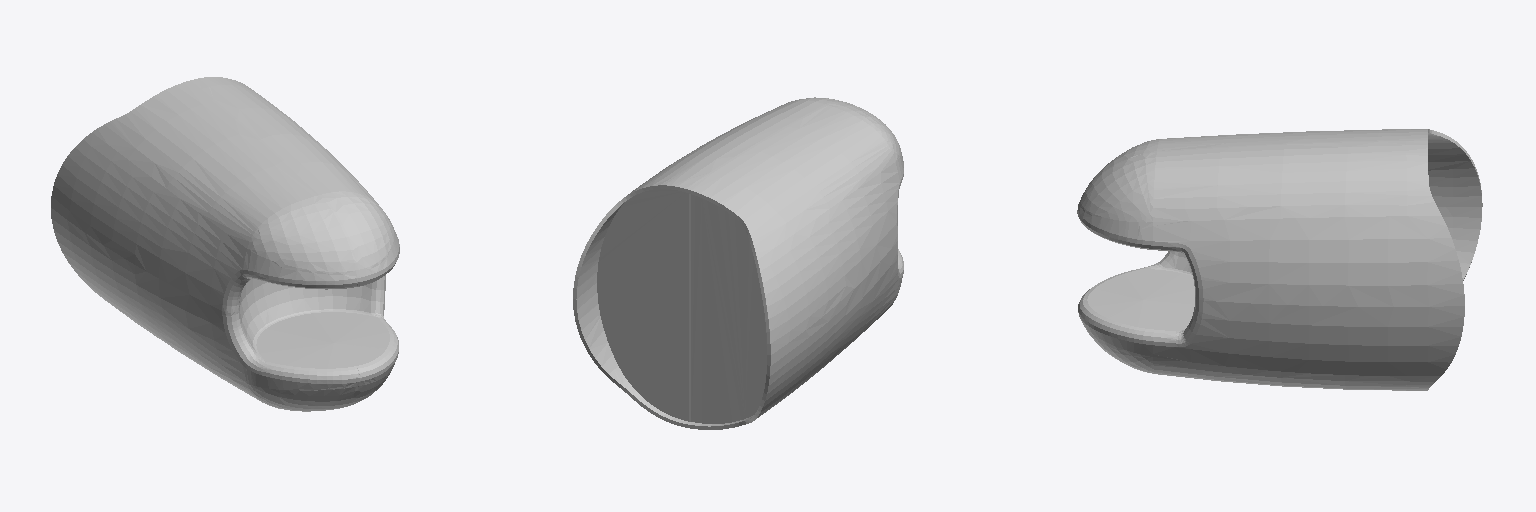
File: arm_5_wrist_2017.obj
The picture shows the model from 3 angles: view 1: azimuth 30°, elevation 25°; view 2: azimuth 150°, elevation 25°; view 3: azimuth 270°, elevation 25°; orthographic projection.
Parts seen in each view (by area): view 1: arm_5_wrist_2017; view 2: arm_5_wrist_2017; view 3: arm_5_wrist_2017.
Boxes of the visible parts, x1,y1,x2,y2 form: arm_5_wrist_2017: [51, 77, 399, 411]; arm_5_wrist_2017: [573, 97, 903, 429]; arm_5_wrist_2017: [1077, 129, 1482, 390].
Bounding box in the file's own units: 0.1221 × 0.1331 × 0.2047.